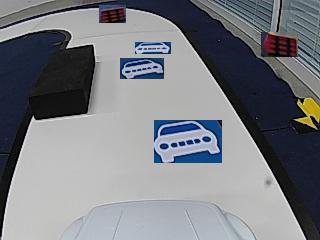block: (30, 45, 94, 119)
